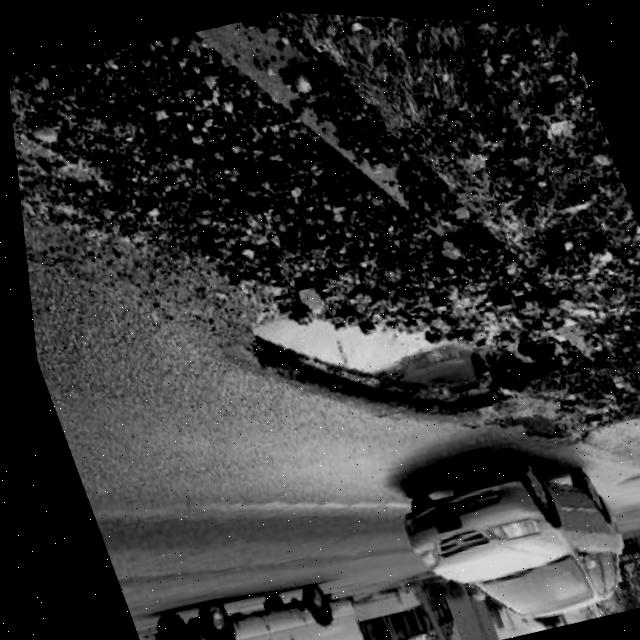Pothole: (226, 252, 526, 467), (484, 392, 572, 457)
